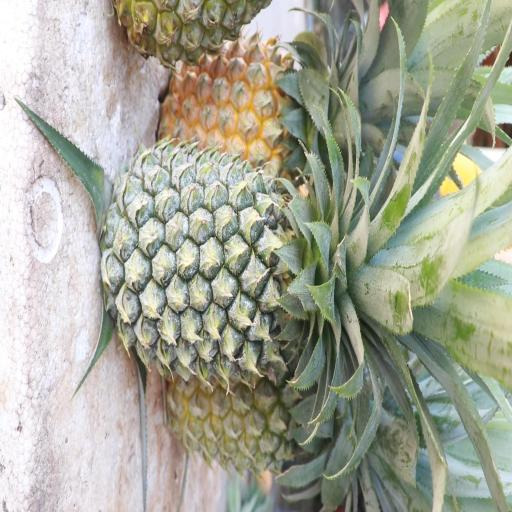------------------------------: (166, 357, 358, 481)
Pineapple - v8 v1: (161, 30, 351, 171)
